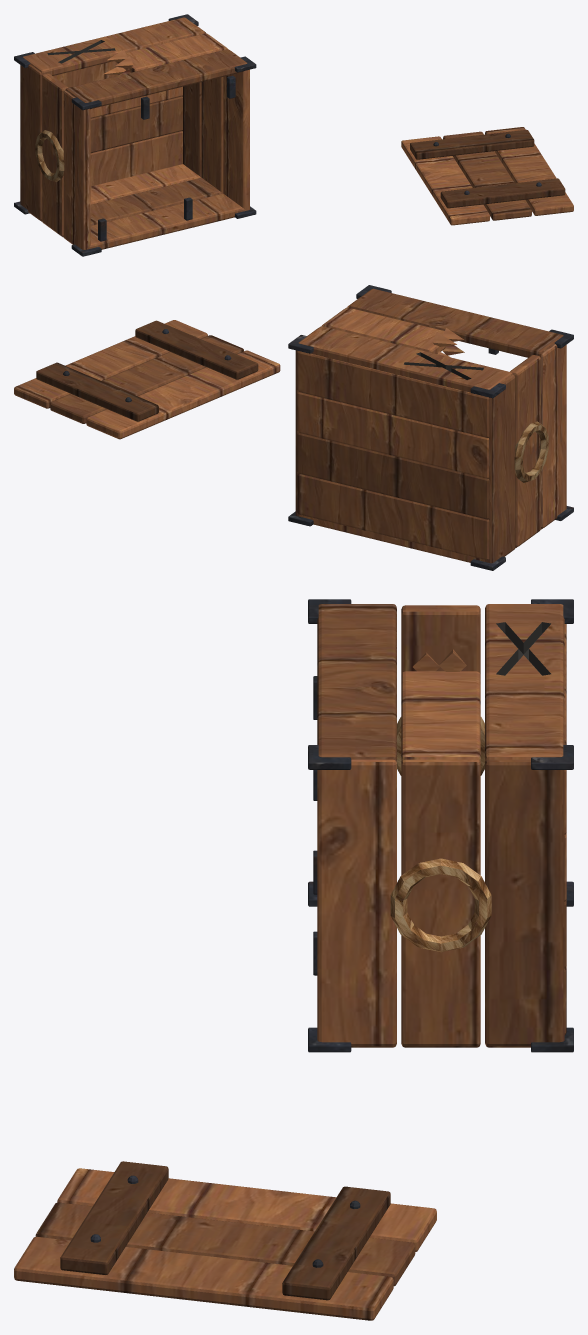
Rendered from rt_arrow_crate_spill_empty.glb.
3 renders of one model, top to bottom at view 1: azimuth 30°, elevation 25°; view 2: azimuth 150°, elevation 25°; view 3: azimuth 270°, elevation 25°, orthographic. The views are drawn at different scales.
Visible parts, largest first — view 1: model; view 2: model; view 3: model.
Boxes of the visible parts, x1,y1,x2,y2 form: model: [14, 14, 573, 256]; model: [14, 285, 573, 570]; model: [14, 599, 573, 1320].
Bounding box in the file's own units: 1.42 × 0.479 × 0.7794.
8 materials, 7 textured.
